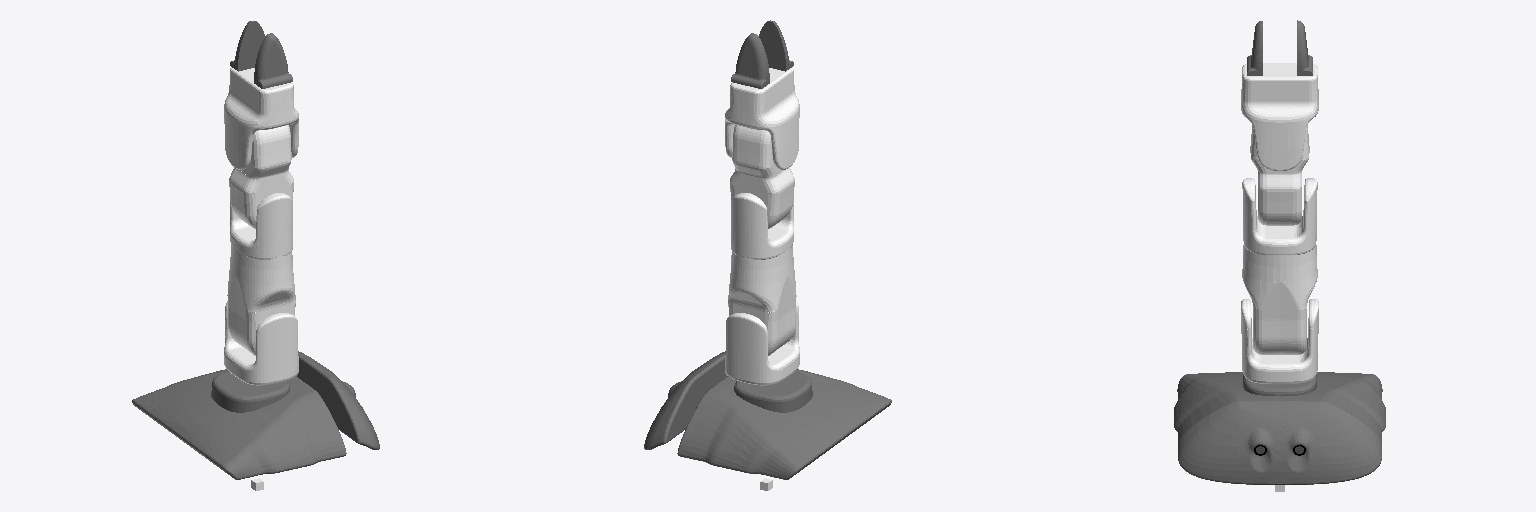
robot.urdf — up1:
<?xml version="1.0" ?>
<!-- =================================================================================== -->
<!-- |    This document was autogenerated by xacro from up1.xacro                      | -->
<!-- |    EDITING THIS FILE BY HAND IS NOT RECOMMENDED                                 | -->
<!-- =================================================================================== -->
<robot name="up1" xmlns:xacro="http://www.ros.org/wiki/xacro">
  <!-- This syntax does not appear to work, even in ros-indigo -->
  <!-- <xacro:arg name="manipulator_module" default="dual_arm" />
  <xacro:arg name="base_module" default="base" />
  <xacro:arg name="io_module" default="io" /> -->
  <!-- ============================   Common   ============================ -->
  <material name="black">
    <color rgba="0 0 0 1"/>
  </material>
  <material name="white">
    <color rgba="1 1 1 1"/>
  </material>
  <material name="red">
    <color rgba="1 0 0 1"/>
  </material>
  <material name="grey">
    <color rgba=".5 .5 .5 1"/>
  </material>
  <material name="green">
    <color rgba="0 1 0 1"/>
  </material>
  <material name="blue">
    <color rgba="0 0 1 1"/>
  </material>
  <material name="yellow">
    <color rgba="1 1 0 1"/>
  </material>
  <gazebo>
    <plugin filename="libgazebo_ros_control.so" name="gazebo_ros_control">
      <robotNamespace>/up1</robotNamespace>
      <robotSimType>gazebo_ros_control/DefaultRobotHWSim</robotSimType>
    </plugin>
  </gazebo>
  <!-- ============================   Base Module   ============================ -->
  <!-- base_footprint is a fictitious link(frame) that is on the ground right below base_link origin,
         navigation stack dedpends on this frame -->
  <link name="up1_footprint">
    <visual>
      <origin rpy="0 0 0" xyz="0 0 0"/>
      <geometry>
        <box size="0.01 0.01 0.01"/>
      </geometry>
      <material name="white"/>
    </visual>
    <collision>
      <origin rpy="0 0 0" xyz="0 0 0"/>
      <geometry>
        <box size="0.001 0.001 0.001"/>
      </geometry>
    </collision>
  </link>
  <joint name="up1_footprint_joint" type="fixed">
    <origin rpy="0 0 0" xyz="0 0 0.06016"/>
    <child link="base_link"/>
    <parent link="up1_footprint"/>
  </joint>
  <!-- Base Link -->
  <link name="base_link">
    <visual>
      <geometry>
        <mesh filename="package://up1_description/meshes/base/base_viz.dae" scale="0.001 0.001 0.001"/>
      </geometry>
      <material name="grey"/>
    </visual>
    <collision>
      <geometry>
        <mesh filename="package://up1_description/meshes/base/base.dae" scale="0.001 0.001 0.001"/>
      </geometry>
    </collision>
    <inertial>
      <mass value="0.30813"/>
      <inertia ixx="0.00175941073" ixy="0.00000172768" ixz="-0.00008279443" iyy="0.00172024238" iyz="0.00000045789" izz="0.00311278092"/>
    </inertial>
  </link>
  <!-- ============================   Base Module Gazebo   ============================ -->
  <gazebo>
    <plugin filename="libgazebo_ros_skid_steer_drive.so" name="skid_steer_drive_controller">
      <updateRate>100.0</updateRate>
      <robotNamespace/>
      <leftFrontJoint>base_to_left_front_wheel</leftFrontJoint>
      <rightFrontJoint>base_to_right_front_wheel</rightFrontJoint>
      <leftRearJoint>base_to_left_back_wheel</leftRearJoint>
      <rightRearJoint>base_to_right_back_wheel</rightRearJoint>
      <wheelSeparation>0.2794</wheelSeparation>
      <wheelDiameter>0.0625</wheelDiameter>
      <robotBaseFrame>up1_footprint</robotBaseFrame>
      <torque>20</torque>
      <topicName>cmd_vel</topicName>
      <broadcastTF>false</broadcastTF>
    </plugin>
  </gazebo>
  <!-- ============================   Wheel   ============================ -->
  <!-- Front Wheel Joint -->
  <joint name="base_to_right_front_wheel" type="continuous">
    <parent link="base_link"/>
    <child link="right_front_wheel"/>
    <origin rpy="1.570795 0 0" xyz="0.05569 -0.12922 -0.0211"/>
    <axis xyz="0 0 -1.0"/>
  </joint>
  <!-- Front Wheel Link -->
  <link name="right_front_wheel">
    <visual>
      <geometry>
        <mesh filename="package://up1_description/meshes/base/wheel_viz.dae" scale="0.001 0.001 0.001"/>
      </geometry>
      <material name="black"/>
    </visual>
    <collision>
      <geometry>
        <mesh filename="package://up1_description/meshes/base/wheel.dae" scale="0.001 0.001 0.001"/>
      </geometry>
    </collision>
    <inertial>
      <mass value="0.01791"/>
      <inertia ixx="0.00000575118" ixy="-0.00000000224" ixz="0.0" iyy="0.00000575882" iyz="0.0" izz="0.0000094354"/>
    </inertial>
  </link>
  <!-- Back Wheel Joint -->
  <joint name="base_to_right_back_wheel" type="continuous">
    <parent link="base_link"/>
    <child link="right_back_wheel"/>
    <origin rpy="1.570795 0 0" xyz="-0.05883 -0.12922 -0.0211"/>
    <axis xyz="0 0 -1.0"/>
  </joint>
  <!-- Back Wheel Link -->
  <link name="right_back_wheel">
    <visual>
      <geometry>
        <mesh filename="package://up1_description/meshes/base/wheel_viz.dae" scale="0.001 0.001 0.001"/>
      </geometry>
      <material name="black"/>
    </visual>
    <collision>
      <geometry>
        <mesh filename="package://up1_description/meshes/base/wheel.dae" scale="0.001 0.001 0.001"/>
      </geometry>
    </collision>
    <inertial>
      <mass value="0.01791"/>
      <inertia ixx="0.00000575118" ixy="-0.00000000224" ixz="0.0" iyy="0.00000575882" iyz="0.0" izz="0.0000094354"/>
    </inertial>
  </link>
  <!-- ============================   Wheel   ============================ -->
  <!-- Front Wheel Joint -->
  <joint name="base_to_left_front_wheel" type="continuous">
    <parent link="base_link"/>
    <child link="left_front_wheel"/>
    <origin rpy="-1.570795 0 0" xyz="0.05569 0.12922 -0.0211"/>
    <axis xyz="0 0 1.0"/>
  </joint>
  <!-- Front Wheel Link -->
  <link name="left_front_wheel">
    <visual>
      <geometry>
        <mesh filename="package://up1_description/meshes/base/wheel_viz.dae" scale="0.001 0.001 0.001"/>
      </geometry>
      <material name="black"/>
    </visual>
    <collision>
      <geometry>
        <mesh filename="package://up1_description/meshes/base/wheel.dae" scale="0.001 0.001 0.001"/>
      </geometry>
    </collision>
    <inertial>
      <mass value="0.01791"/>
      <inertia ixx="0.00000575118" ixy="-0.00000000224" ixz="0.0" iyy="0.00000575882" iyz="0.0" izz="0.0000094354"/>
    </inertial>
  </link>
  <!-- Back Wheel Joint -->
  <joint name="base_to_left_back_wheel" type="continuous">
    <parent link="base_link"/>
    <child link="left_back_wheel"/>
    <origin rpy="-1.570795 0 0" xyz="-0.05883 0.12922 -0.0211"/>
    <axis xyz="0 0 1.0"/>
  </joint>
  <!-- Back Wheel Link -->
  <link name="left_back_wheel">
    <visual>
      <geometry>
        <mesh filename="package://up1_description/meshes/base/wheel_viz.dae" scale="0.001 0.001 0.001"/>
      </geometry>
      <material name="black"/>
    </visual>
    <collision>
      <geometry>
        <mesh filename="package://up1_description/meshes/base/wheel.dae" scale="0.001 0.001 0.001"/>
      </geometry>
    </collision>
    <inertial>
      <mass value="0.01791"/>
      <inertia ixx="0.00000575118" ixy="-0.00000000224" ixz="0.0" iyy="0.00000575882" iyz="0.0" izz="0.0000094354"/>
    </inertial>
  </link>
  <!-- ============================   IO Module   ============================ -->
  <!-- IO Joint -->
  <joint name="base_to_io" type="fixed">
    <parent link="base_link"/>
    <child link="io_link"/>
    <origin xyz="0.09136 0 0.03356"/>
  </joint>
  <!-- IO Link -->
  <link name="io_link">
    <visual>
      <geometry>
        <mesh filename="package://up1_description/meshes/io/io_viz.dae" scale="0.001 0.001 0.001"/>
      </geometry>
      <material name="grey"/>
    </visual>
    <collision>
      <geometry>
        <mesh filename="package://up1_description/meshes/io/io.dae" scale="0.001 0.001 0.001"/>
      </geometry>
    </collision>
    <inertial>
      <mass value="0.09799"/>
      <inertia ixx="0.00036946993" ixy="0.00000010944" ixz="-0.00001523298" iyy="0.00007193675" iyz="0.00000030515" izz="0.00034948153"/>
    </inertial>
  </link>
  <!-- ============================   IO Module Gazebo   ============================ -->
  <gazebo>

    </gazebo>
  <!-- ============================   Camera   ============================ -->
  <!-- Camera Joint -->
  <joint name="io_to_right_camera" type="fixed">
    <parent link="io_link"/>
    <child link="right_camera"/>
    <origin rpy="0 0.209439333333 0" xyz="-0.00619 -0.02127 0.00451"/>
  </joint>
  <!-- Camera Link -->
  <link name="right_camera">
    <visual>
      <geometry>
        <mesh filename="package://up1_description/meshes/io/camera_viz.dae" scale="0.001 0.001 0.001"/>
      </geometry>
      <material name="black"/>
    </visual>
    <collision>
      <geometry>
        <mesh filename="package://up1_description/meshes/io/camera.dae" scale="0.001 0.001 0.001"/>
      </geometry>
    </collision>
    <inertial>
      <mass value="0.00488"/>
      <inertia ixx="0.00000029098" ixy="0.0" ixz="0.0" iyy="0.00000085538" iyz="0.0" izz="0.00000085538"/>
    </inertial>
  </link>
  <!-- ============================   Camera   ============================ -->
  <!-- Camera Joint -->
  <joint name="io_to_left_camera" type="fixed">
    <parent link="io_link"/>
    <child link="left_camera"/>
    <origin rpy="0 0.209439333333 0" xyz="-0.00619 0.02127 0.00451"/>
  </joint>
  <!-- Camera Link -->
  <link name="left_camera">
    <visual>
      <geometry>
        <mesh filename="package://up1_description/meshes/io/camera_viz.dae" scale="0.001 0.001 0.001"/>
      </geometry>
      <material name="black"/>
    </visual>
    <collision>
      <geometry>
        <mesh filename="package://up1_description/meshes/io/camera.dae" scale="0.001 0.001 0.001"/>
      </geometry>
    </collision>
    <inertial>
      <mass value="0.00488"/>
      <inertia ixx="0.00000029098" ixy="0.0" ixz="0.0" iyy="0.00000085538" iyz="0.0" izz="0.00000085538"/>
    </inertial>
  </link>
  <!-- ============================   Dual Arm Module   ============================ -->
  <!-- This xacro group is intended to be used in a full UP1 robot URDF -->
  <!-- Armroot Joint -->
  <joint name="base_to_armroot" type="fixed">
    <parent link="base_link"/>
    <child link="armroot_link"/>
    <origin xyz="-0.00869 0.0 0.03876"/>
  </joint>
  <!-- ============================   Arm Root Link   ============================ -->
  <!-- Armroot Link -->
  <link name="armroot_link">
    <visual>
      <geometry>
        <mesh filename="package://up1_description/meshes/mono_arm/armroot_viz.dae" scale="0.001 0.001 0.001"/>
      </geometry>
      <material name="grey"/>
    </visual>
    <collision>
      <geometry>
        <mesh filename="package://up1_description/meshes/mono_arm/armroot.dae" scale="0.001 0.001 0.001"/>
      </geometry>
    </collision>
    <inertial>
      <mass value="0.20657"/>
      <inertia ixx="0.00096240277" ixy="-0.00000350376" ixz="0.00002354169" iyy="0.00057897825" iyz="0.00000127419" izz="0.00134814249"/>
    </inertial>
  </link>
  <!-- ============================   Arm   ============================ -->
  <!-- Arm Joint 1 -->
  <joint name="right_armroot_to_armlink1" type="revolute">
    <parent link="armroot_link"/>
    <child link="right_armlink1"/>
    <origin rpy="0 3.14159 0" xyz="0.01398 -0.0 0.0402"/>
    <axis xyz="0 0 1"/>
    <limit effort="6.0" lower="-1.570795" upper="1.570795" velocity="5.236"/>
  </joint>
  <!-- Arm Link 1 -->
  <link name="right_armlink1">
    <visual>
      <geometry>
        <mesh filename="package://up1_description/meshes/mono_arm/armlink1_viz.dae" scale="0.001 0.001 0.001"/>
      </geometry>
      <material name="white"/>
    </visual>
    <collision>
      <geometry>
        <mesh filename="package://up1_description/meshes/mono_arm/armlink1.dae" scale="0.001 0.001 0.001"/>
      </geometry>
    </collision>
    <inertial>
      <mass value="0.06985"/>
      <inertia ixx="0.00023448766" ixy="0.0000000027" ixz="0.00000001913" iyy="0.00024004726" iyz="-0.0000015393" izz="0.00007431363"/>
    </inertial>
  </link>
  <!-- Arm Joint 2 -->
  <joint name="right_armlink1_to_armlink2" type="revolute">
    <parent link="right_armlink1"/>
    <child link="right_armlink2"/>
    <origin rpy="1.570795 3.14159 0" xyz="0 0 -0.0553"/>
    <axis xyz="0 0 1.0"/>
    <limit effort="6.0" lower="-1.570795" upper="1.570795" velocity="4.553"/>
  </joint>
  <!-- Arm Link 2 -->
  <link name="right_armlink2">
    <visual>
      <geometry>
        <mesh filename="package://up1_description/meshes/mono_arm/armlink2_viz.dae" scale="0.001 0.001 0.001"/>
      </geometry>
      <material name="white"/>
    </visual>
    <collision>
      <geometry>
        <mesh filename="package://up1_description/meshes/mono_arm/armlink2.dae" scale="0.001 0.001 0.001"/>
      </geometry>
    </collision>
    <inertial>
      <mass value="0.07067"/>
      <inertia ixx="0.00029708797" ixy="-0.00000000444" ixz="0.00000000068" iyy="0.0000799845" iyz="-0.00000174097" izz="0.00026073683"/>
    </inertial>
  </link>
  <!-- Arm Joint 3 -->
  <joint name="right_armlink2_to_armlink3" type="revolute">
    <parent link="right_armlink2"/>
    <child link="right_armlink3"/>
    <origin rpy="-1.570795 3.14159 0" xyz="0 0.09602 0"/>
    <axis xyz="0 0 -1"/>
    <limit effort="6.0" lower="-1.570795" upper="1.570795" velocity="5.236"/>
  </joint>
  <!-- Arm Link 3 -->
  <link name="right_armlink3">
    <visual>
      <geometry>
        <mesh filename="package://up1_description/meshes/mono_arm/armlink3_viz.dae" scale="0.001 0.001 0.001"/>
      </geometry>
      <material name="white"/>
    </visual>
    <collision>
      <geometry>
        <mesh filename="package://up1_description/meshes/mono_arm/armlink3.dae" scale="0.001 0.001 0.001"/>
      </geometry>
    </collision>
    <inertial>
      <mass value="0.04828"/>
      <inertia ixx="0.00010408822" ixy="0.00000002684" ixz="0.00000006554" iyy="0.00008358122" iyz="0.00000001571" izz="0.00004453887"/>
    </inertial>
  </link>
  <!-- Arm Joint 4 -->
  <joint name="right_armlink3_to_armlink4" type="revolute">
    <parent link="right_armlink3"/>
    <child link="right_armlink4"/>
    <origin rpy="1.570795 0 0" xyz="0 0 0.05588"/>
    <axis xyz="0 0 1.0"/>
    <limit effort="6.0" lower="-1.570795" upper="1.570795" velocity="5.236"/>
  </joint>
  <!-- Arm Link 4 -->
  <link name="right_armlink4">
    <visual>
      <geometry>
        <mesh filename="package://up1_description/meshes/mono_arm/armlink4_viz.dae" scale="0.001 0.001 0.001"/>
      </geometry>
      <material name="white"/>
    </visual>
    <collision>
      <geometry>
        <mesh filename="package://up1_description/meshes/mono_arm/armlink4.dae" scale="0.001 0.001 0.001"/>
      </geometry>
    </collision>
    <inertial>
      <mass value="0.07021"/>
      <inertia ixx="0.00022365714" ixy="0.00000581335" ixz="-0.00000002583" iyy="0.00004497277" iyz="0.00000036702" izz="0.00022294807"/>
    </inertial>
  </link>
  <!-- Arm Joint 5 -->
  <joint name="right_armlink4_to_gripper" type="revolute">
    <parent link="right_armlink4"/>
    <child link="right_gripper"/>
    <origin rpy="0 1.570795 0" xyz="0 0.07641 0"/>
    <axis xyz="0 0 -1.0"/>
    <limit effort="6.0" lower="-1.570795" upper="1.570795" velocity="5.236"/>
  </joint>
  <!-- Gripper Link -->
  <link name="right_gripper">
    <visual>
      <geometry>
        <mesh filename="package://up1_description/meshes/mono_arm/armlink5_viz.dae" scale="0.001 0.001 0.001"/>
      </geometry>
      <material name="white"/>
    </visual>
    <collision>
      <geometry>
        <mesh filename="package://up1_description/meshes/mono_arm/armlink5.dae" scale="0.001 0.001 0.001"/>
      </geometry>
    </collision>
    <inertial>
      <mass value="0.07134"/>
      <inertia ixx="0.00024486788" ixy="-0.00000179765" ixz="-0.0000013121" iyy="0.00007141374" iyz="0.00000015595" izz="0.0002397239"/>
    </inertial>
  </link>
  <!-- ============================   Arm Gazebo  ============================ -->
  <gazebo reference="right_armlink1">
    <turnGravityOff>true</turnGravityOff>
  </gazebo>
  <gazebo reference="right_armlink2">
    <turnGravityOff>true</turnGravityOff>
  </gazebo>
  <gazebo reference="right_armlink3">
    <turnGravityOff>true</turnGravityOff>
  </gazebo>
  <gazebo reference="right_armlink4">
    <turnGravityOff>true</turnGravityOff>
  </gazebo>
  <gazebo reference="right_gripper">
    <turnGravityOff>true</turnGravityOff>
  </gazebo>
  <!-- ============================   Arm Transmission  ============================ -->
  <transmission name="right_armroot_to_armlink1_trans">
    <type>transmission_interface/SimpleTransmission</type>
    <joint name="right_armroot_to_armlink1">
      <hardwareInterface>PositionJointInterface</hardwareInterface>
    </joint>
    <actuator name="right_armroot_to_armlink1_motor">
      <mechanicalReduction>1</mechanicalReduction>
    </actuator>
  </transmission>
  <transmission name="right_armlink1_to_armlink2_trans">
    <type>transmission_interface/SimpleTransmission</type>
    <joint name="right_armlink1_to_armlink2">
      <hardwareInterface>PositionJointInterface</hardwareInterface>
    </joint>
    <actuator name="right_armlink1_to_armlink2_motor">
      <mechanicalReduction>1</mechanicalReduction>
    </actuator>
  </transmission>
  <transmission name="right_armlink2_to_armlink3_trans">
    <type>transmission_interface/SimpleTransmission</type>
    <joint name="right_armlink2_to_armlink3">
      <hardwareInterface>PositionJointInterface</hardwareInterface>
    </joint>
    <actuator name="right_armlink2_to_armlink3_motor">
      <mechanicalReduction>1</mechanicalReduction>
    </actuator>
  </transmission>
  <transmission name="right_armlink3_to_armlink4_trans">
    <type>transmission_interface/SimpleTransmission</type>
    <joint name="right_armlink3_to_armlink4">
      <hardwareInterface>PositionJointInterface</hardwareInterface>
    </joint>
    <actuator name="right_armlink3_to_armlink4_motor">
      <mechanicalReduction>1</mechanicalReduction>
    </actuator>
  </transmission>
  <transmission name="right_armlink4_to_gripper_trans">
    <type>transmission_interface/SimpleTransmission</type>
    <joint name="right_armlink4_to_gripper">
      <hardwareInterface>PositionJointInterface</hardwareInterface>
    </joint>
    <actuator name="right_armlink4_to_gripper_motor">
      <mechanicalReduction>1</mechanicalReduction>
    </actuator>
  </transmission>
  <!-- ============================   Gripper   ============================ -->
  <!-- Finger Joint 1 -->
  <joint name="right_finger_joint" type="prismatic">
    <parent link="right_gripper"/>
    <child link="right_finger1"/>
    <origin rpy="0 1.570795 0" xyz="-0.018 0.08121 0"/>
    <axis xyz="0 0 1"/>
    <limit effort="6.0" lower="0" upper="0.018" velocity="1"/>
  </joint>
  <!-- Finger Link 1 -->
  <link name="right_finger1">
    <visual>
      <geometry>
        <mesh filename="package://up1_description/meshes/mono_arm/finger_viz.dae" scale="0.001 0.001 0.001"/>
      </geometry>
      <material name="grey"/>
    </visual>
    <collision>
      <geometry>
        <mesh filename="package://up1_description/meshes/mono_arm/finger.dae" scale="0.001 0.001 0.001"/>
      </geometry>
    </collision>
    <inertial>
      <mass value="0.01174"/>
      <inertia ixx="0.00000285949" ixy="-0.00000001641" ixz="0.00000001803" iyy="0.00000203198" iyz="-0.00000077289" izz="0.00000299021"/>
    </inertial>
  </link>
  <!-- Finger Joint 2 -->
  <joint name="right_finger_joint_fake" type="prismatic">
    <parent link="right_gripper"/>
    <child link="right_finger2"/>
    <origin rpy="0 -1.570795 0" xyz="0.018 0.08121 0"/>
    <axis xyz="0 0 1"/>
    <limit effort="6.0" lower="0" upper="0.018" velocity="1"/>
    <mimic joint="right_finger_joint" multiplier="1" offset="0"/>
  </joint>
  <!-- Finger Link 2 -->
  <link name="right_finger2">
    <visual>
      <geometry>
        <mesh filename="package://up1_description/meshes/mono_arm/finger_viz.dae" scale="0.001 0.001 0.001"/>
      </geometry>
      <material name="grey"/>
    </visual>
    <collision>
      <geometry>
        <mesh filename="package://up1_description/meshes/mono_arm/finger.dae" scale="0.001 0.001 0.001"/>
      </geometry>
    </collision>
    <inertial>
      <mass value="0.01174"/>
      <inertia ixx="0.00000285949" ixy="-0.00000001641" ixz="0.00000001803" iyy="0.00000203198" iyz="-0.00000077289" izz="0.00000299021"/>
    </inertial>
  </link>
  <!-- ============================   Gripper Gazebo   ============================ -->
  <gazebo reference="right_finger1">
    <turnGravityOff>true</turnGravityOff>
  </gazebo>
  <gazebo reference="right_finger2">
    <turnGravityOff>true</turnGravityOff>
  </gazebo>
  <!-- ============================   Gripper Transmission   ============================ -->
  <transmission name="right_gripper_trans">
    <type>transmission_interface/SimpleTransmission</type>
    <joint name="right_finger_joint">
      <hardwareInterface>PositionJointInterface</hardwareInterface>
    </joint>
    <actuator name="right_gripper_motor">
      <mechanicalReduction>1</mechanicalReduction>
    </actuator>
  </transmission>
  <transmission name="right_gripper_trans">
    <type>transmission_interface/SimpleTransmission</type>
    <joint name="right_finger_joint_fake">
      <hardwareInterface>PositionJointInterface</hardwareInterface>
    </joint>
    <actuator name="right_gripper_motor">
      <mechanicalReduction>1</mechanicalReduction>
    </actuator>
  </transmission>
</robot>

--- Render facts (derived) ---
Views: 3 orthographic renders of the robot side by side, from view 1: azimuth 30°, elevation 25°; view 2: azimuth 150°, elevation 25°; view 3: azimuth 270°, elevation 25°.
Robot: up1 — 17 links, 16 joints (5 revolute, 4 continuous, 2 prismatic, 5 fixed); root link up1_footprint; default pose: all joints at 0.
Visible links, largest first — view 1: armroot_link, right_armlink2, right_gripper, right_armlink1, right_armlink4, right_armlink3, io_link, right_finger2, right_finger1; view 2: armroot_link, right_armlink2, right_gripper, right_armlink1, right_armlink4, right_armlink3, io_link, right_finger1, right_finger2; view 3: io_link, armroot_link, right_gripper, right_armlink2, right_armlink3, right_armlink1, right_armlink4, right_finger1, right_finger2.
Link boxes in pixels (box(x1,y1,x2,y2)): armroot_link: box(132, 369, 346, 479); right_armlink2: box(227, 245, 295, 355); right_gripper: box(224, 67, 298, 169); right_armlink1: box(224, 301, 298, 385); right_armlink4: box(229, 125, 293, 228); right_armlink3: box(230, 193, 292, 259); io_link: box(297, 351, 379, 449); right_finger2: box(254, 33, 292, 88); right_finger1: box(230, 21, 264, 71); armroot_link: box(677, 369, 891, 479); right_armlink2: box(728, 245, 796, 355); right_gripper: box(725, 67, 799, 169); right_armlink1: box(725, 301, 799, 385); right_armlink4: box(730, 125, 794, 228); right_armlink3: box(731, 193, 793, 259); io_link: box(644, 351, 726, 449); right_finger1: box(731, 33, 769, 88); right_finger2: box(759, 20, 793, 71); io_link: box(1178, 401, 1381, 484); armroot_link: box(1174, 372, 1385, 441); right_gripper: box(1241, 63, 1318, 170); right_armlink2: box(1242, 245, 1317, 354); right_armlink3: box(1242, 178, 1317, 254); right_armlink1: box(1241, 299, 1318, 383); right_armlink4: box(1250, 125, 1309, 225); right_finger1: box(1297, 20, 1312, 75); right_finger2: box(1247, 21, 1262, 75).
Size in the robot's own frame: 0.2208 by 0.2311 by 0.5656 metres.
11 mesh visuals loaded from 11 distinct referenced files (9 Collada DAE); not drawn: 4 (reference not matched to a file when rendering), 1 (file found but could not be loaded).